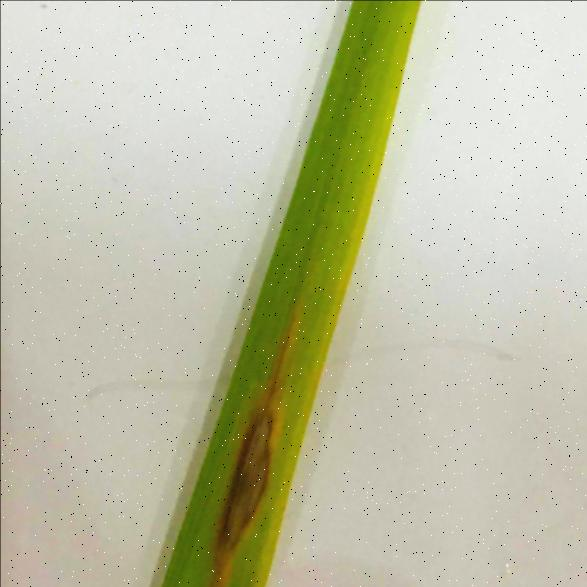Leaf_smut: (208, 362, 276, 576)
